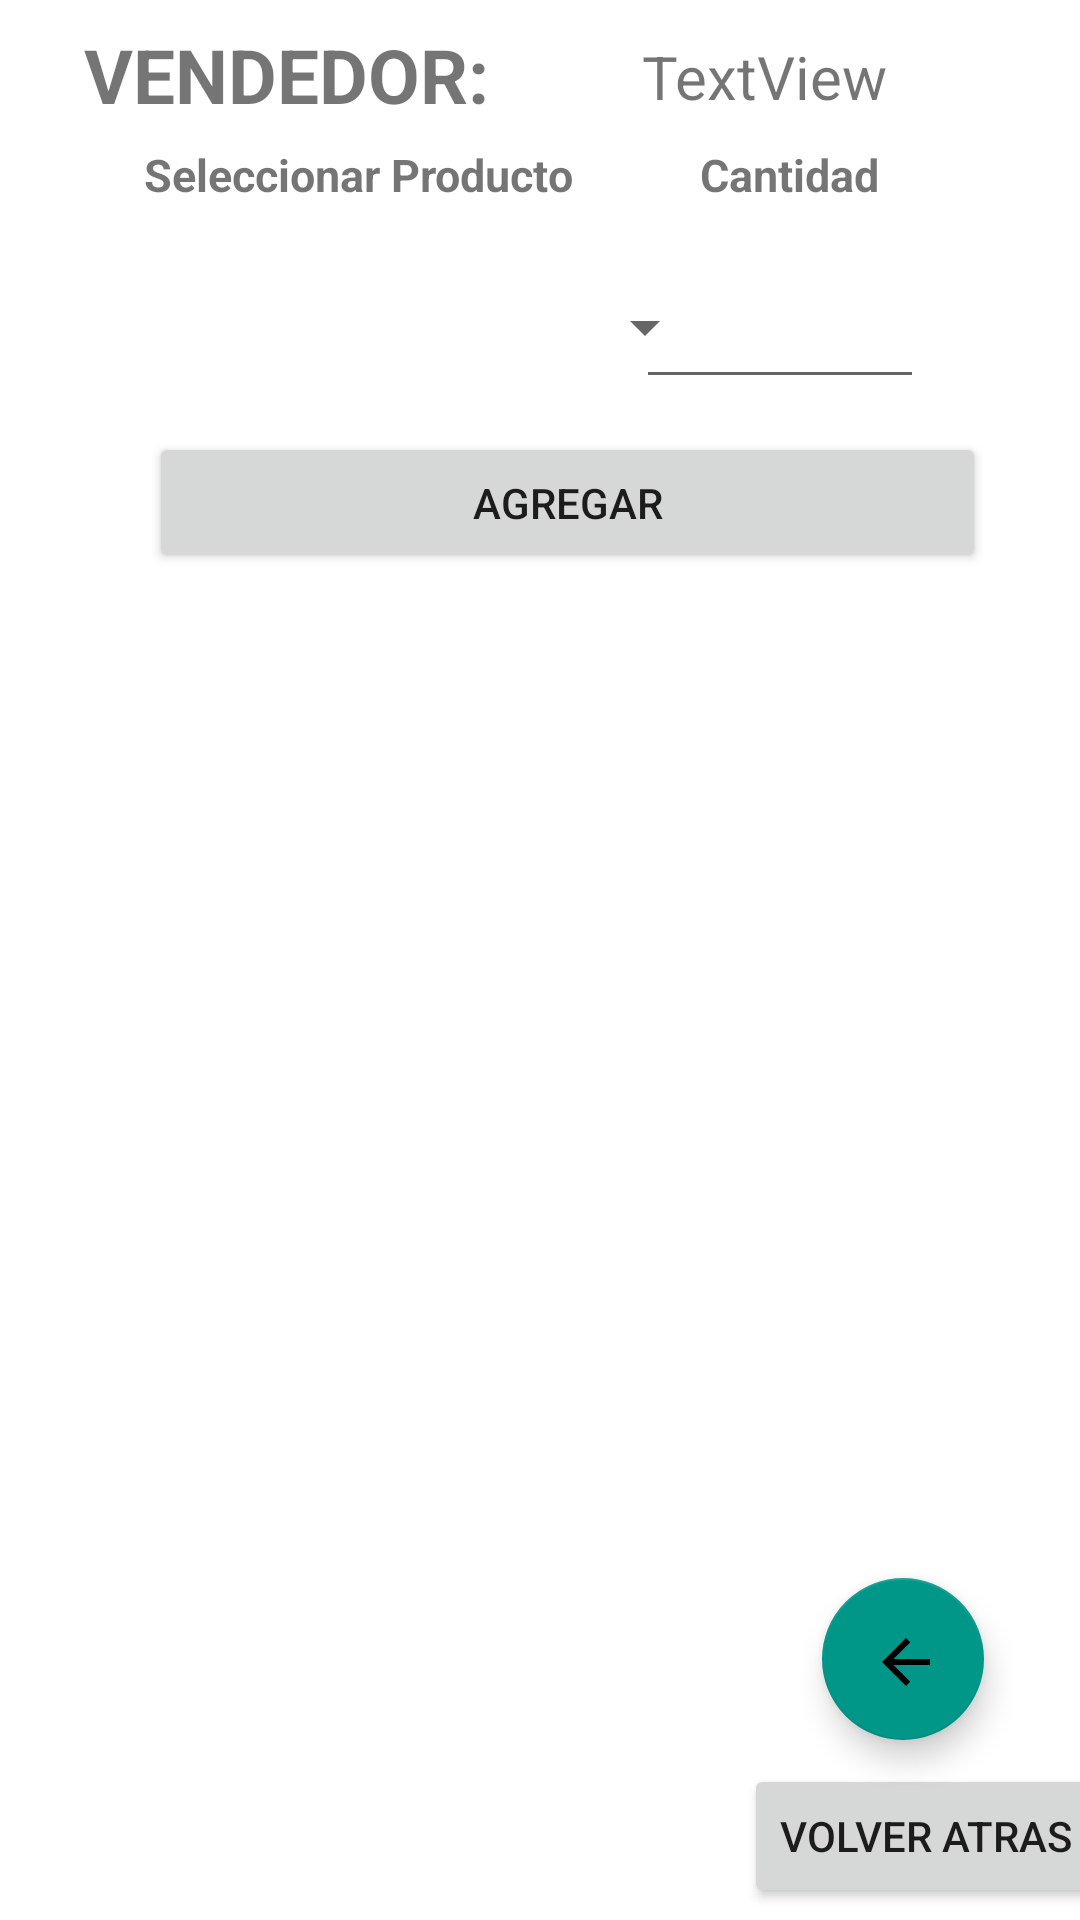

Named icons in this screenshot (1080×1920) and their centers, point (x, y):
back: point (903, 1659)
